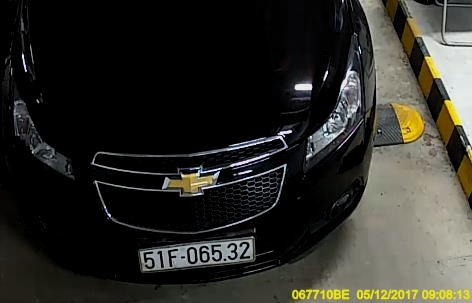plate: (136, 238, 254, 272)
